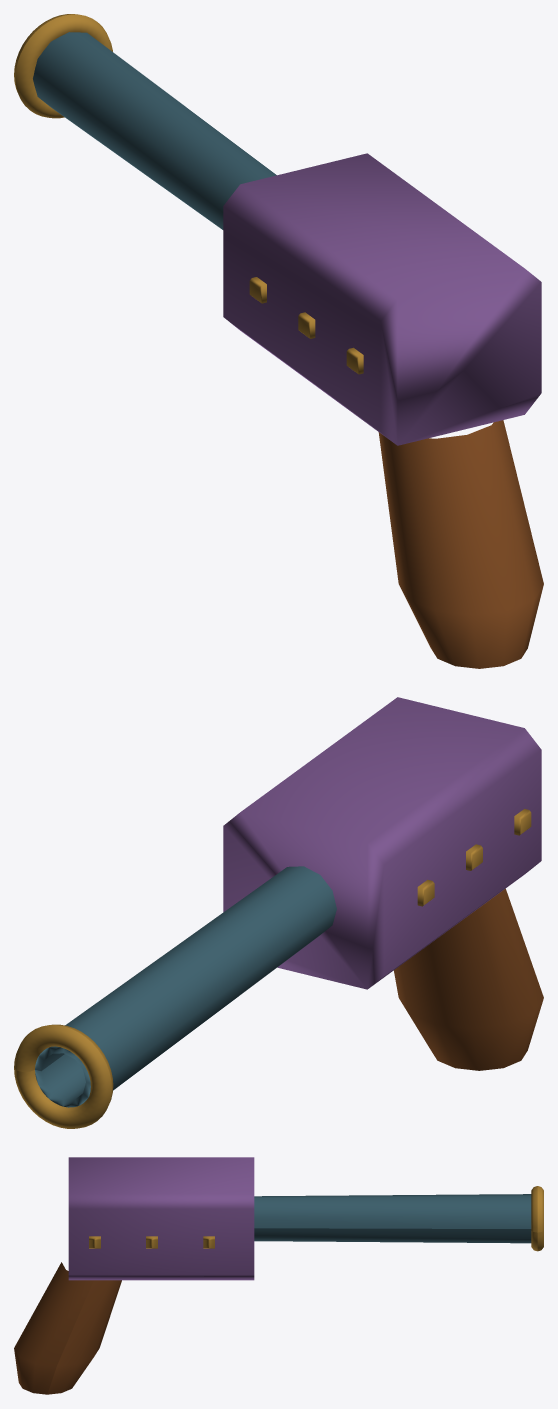
Rendered from weapon_rail.glb.
The picture shows the model from 3 angles, top to bottom: view 1: azimuth 30°, elevation 25°; view 2: azimuth 150°, elevation 25°; view 3: azimuth 270°, elevation 25°; orthographic projection. The views are drawn at different scales.
Parts seen in each view (by area): view 1: ShapedReceiver, Grip, HollowBarrel0, BarrelCuff0; view 2: ShapedReceiver, HollowBarrel0, Grip, BarrelCuff0; view 3: ShapedReceiver, HollowBarrel0, Grip, BarrelCuff0.
Part boxes in pixels (box(x1,y1,x2,y2)): ShapedReceiver: box(223, 153, 541, 445); Grip: box(378, 420, 543, 668); HollowBarrel0: box(33, 32, 276, 229); BarrelCuff0: box(14, 14, 112, 118); ShapedReceiver: box(223, 697, 541, 989); HollowBarrel0: box(35, 866, 336, 1107); Grip: box(394, 888, 543, 1070); BarrelCuff0: box(14, 1024, 113, 1128); ShapedReceiver: box(68, 1157, 254, 1280); HollowBarrel0: box(254, 1194, 531, 1243); Grip: box(14, 1262, 121, 1394); BarrelCuff0: box(531, 1186, 543, 1251).
Bounding box in the file's own units: 0.25 × 0.48 × 1.11.
